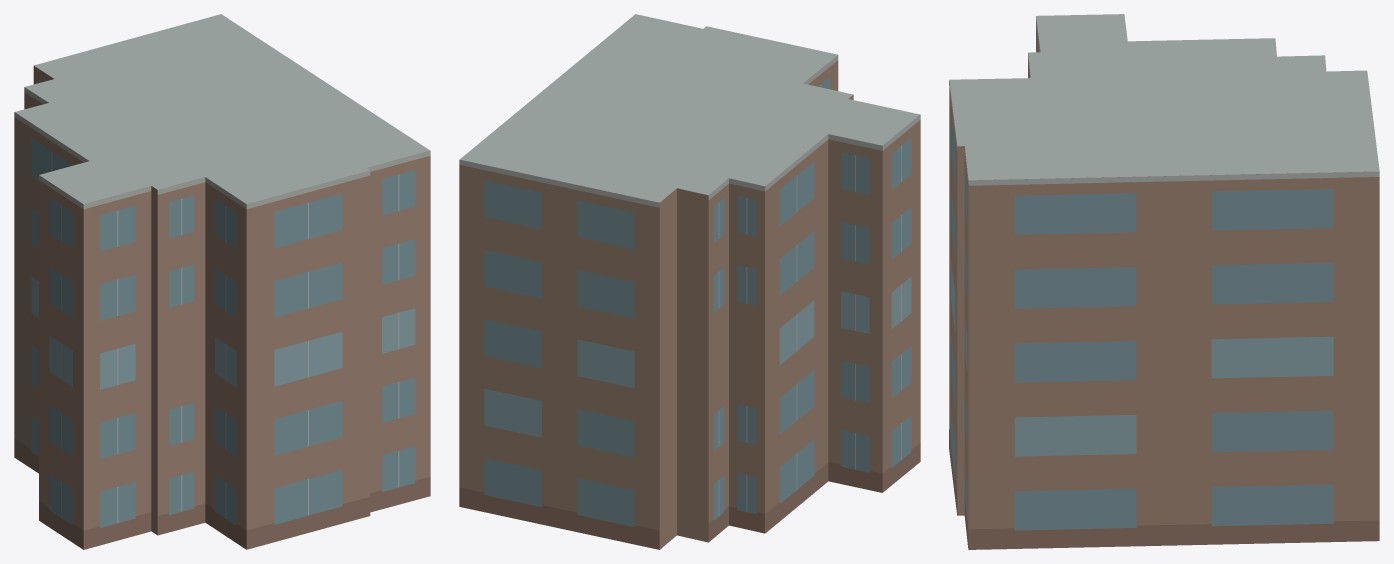
File: survey-upis-32618929.glb
3 views of the same model, side by side, from view 1: azimuth 30°, elevation 25°; view 2: azimuth 150°, elevation 25°; view 3: azimuth 270°, elevation 25° (orthographic). The views are drawn at different scales.
Parts seen in each view (by area): view 1: survey-upis-32618929.tmp; view 2: survey-upis-32618929.tmp; view 3: survey-upis-32618929.tmp.
Part boxes in pixels (x1,y1,x2,y2): survey-upis-32618929.tmp: [14, 14, 430, 549]; survey-upis-32618929.tmp: [459, 14, 920, 549]; survey-upis-32618929.tmp: [949, 14, 1379, 549].
Size of the model in its own units: 15.94 by 16.5 by 17.43.
